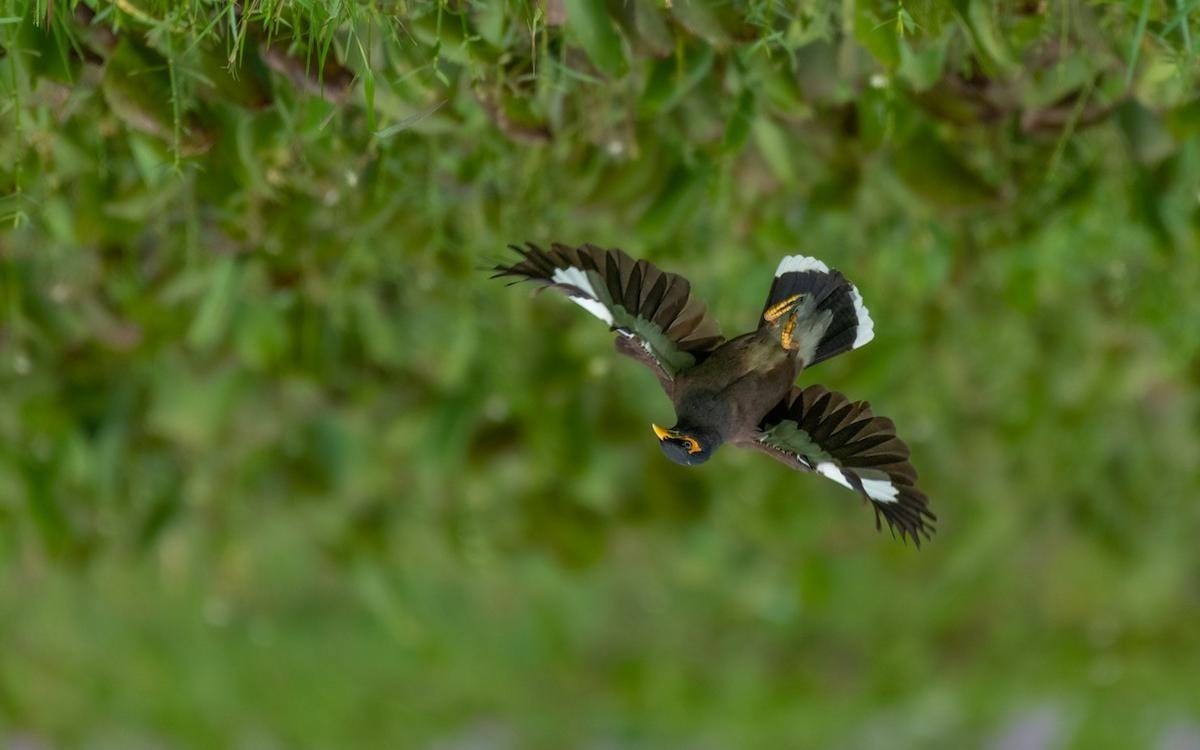myna: (545, 215, 950, 543)
